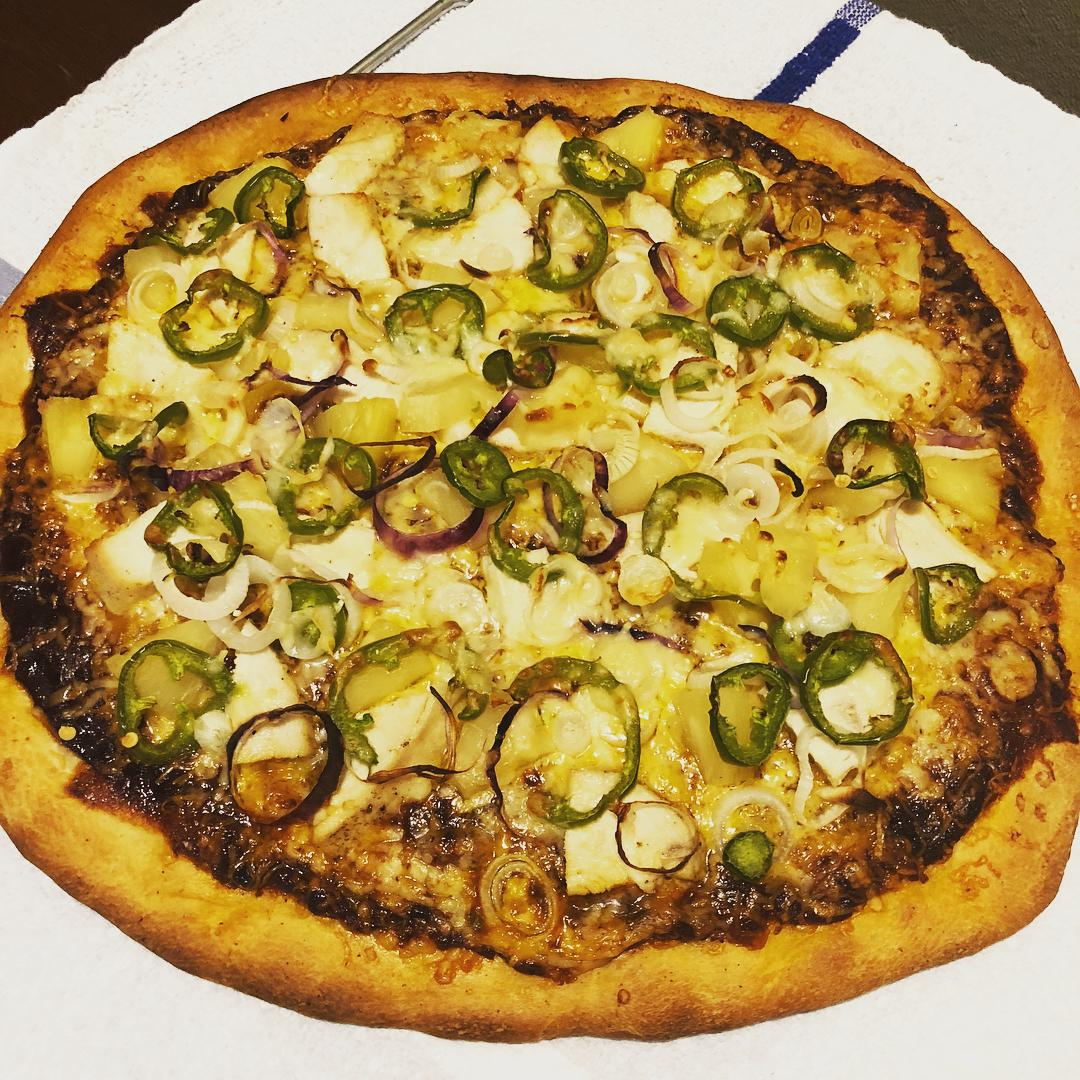Onion: (395, 688, 493, 858), (224, 699, 353, 827), (247, 321, 354, 456), (722, 427, 803, 534), (474, 848, 562, 946), (782, 724, 865, 827), (362, 497, 491, 560), (815, 511, 911, 594), (618, 222, 700, 316), (652, 356, 743, 434), (613, 790, 696, 874), (337, 428, 437, 492), (750, 363, 833, 433), (648, 401, 731, 471), (711, 785, 791, 849), (146, 447, 261, 491), (905, 412, 999, 464), (585, 261, 654, 328), (467, 387, 532, 445), (251, 227, 294, 299)
Peppers: (491, 655, 649, 830), (326, 619, 490, 771), (112, 634, 237, 774), (799, 626, 913, 755), (641, 468, 736, 601), (769, 235, 877, 347), (272, 430, 379, 541), (487, 465, 588, 582), (140, 476, 250, 583), (158, 270, 273, 371), (820, 406, 930, 510), (522, 181, 613, 296), (620, 304, 721, 405), (478, 322, 608, 400), (704, 658, 796, 767), (669, 154, 767, 247), (379, 279, 488, 362), (549, 127, 653, 202), (900, 553, 983, 645), (268, 572, 348, 664), (395, 161, 490, 236), (705, 268, 792, 346), (84, 400, 197, 460), (227, 162, 309, 242), (443, 432, 519, 505), (161, 198, 236, 257), (751, 603, 810, 678), (723, 824, 778, 883)
Pizza: (0, 69, 1080, 1046)
